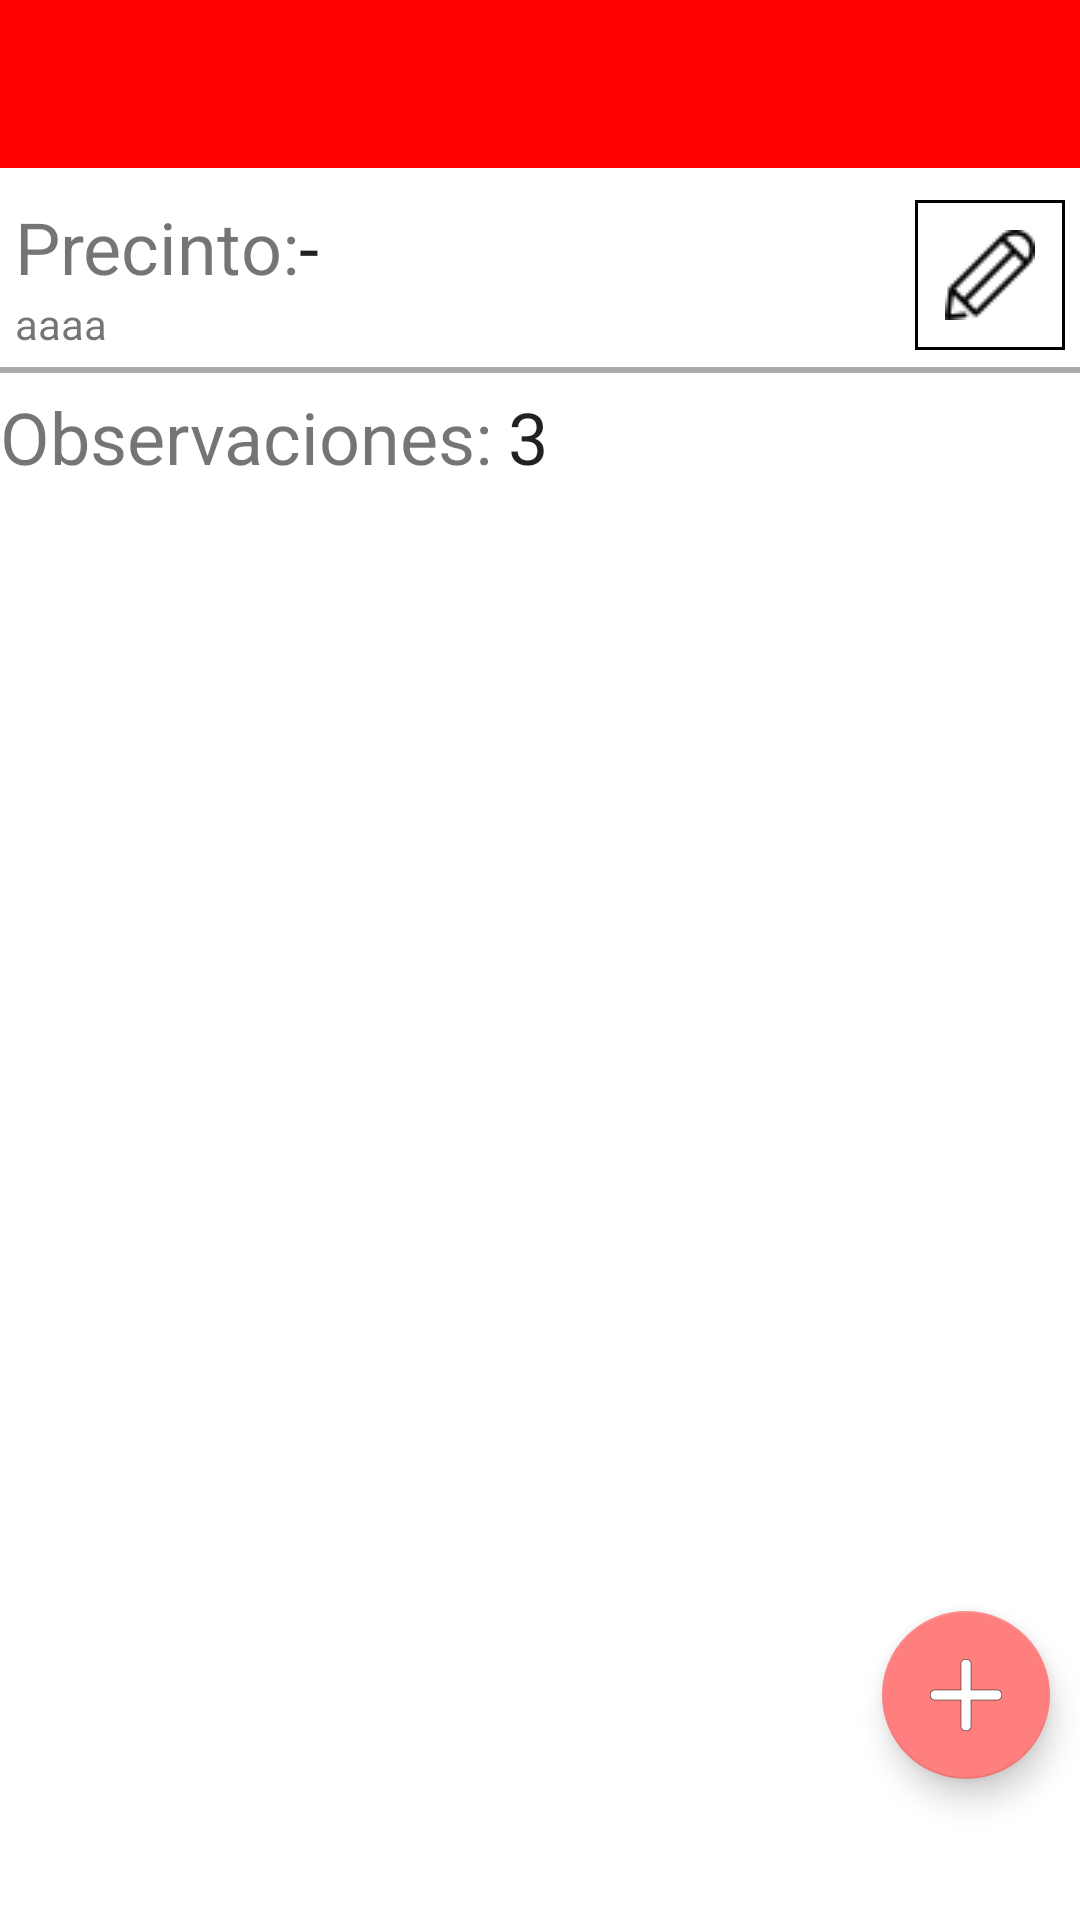

Named icons in this screenshot (1080px x 1920px) and their bounding boxes, (x1, y1, x2, y2):
add: (882, 1611, 1050, 1779)
edit: (915, 200, 1065, 350)
